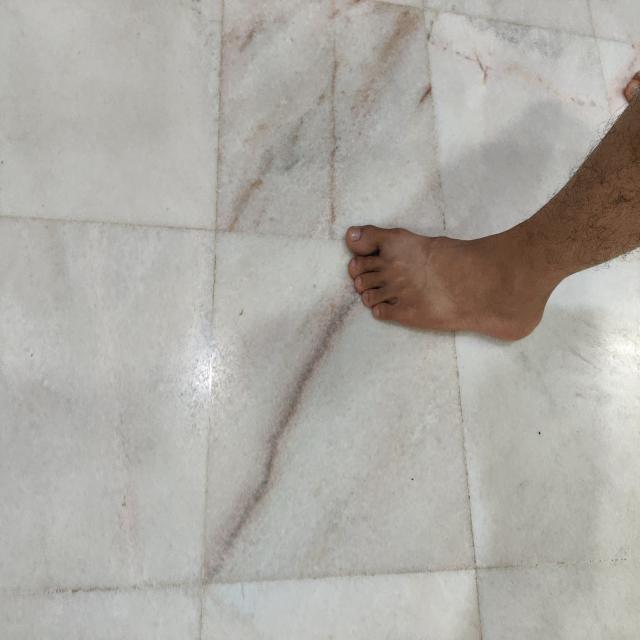No_Shoes: (335, 194, 588, 385)
